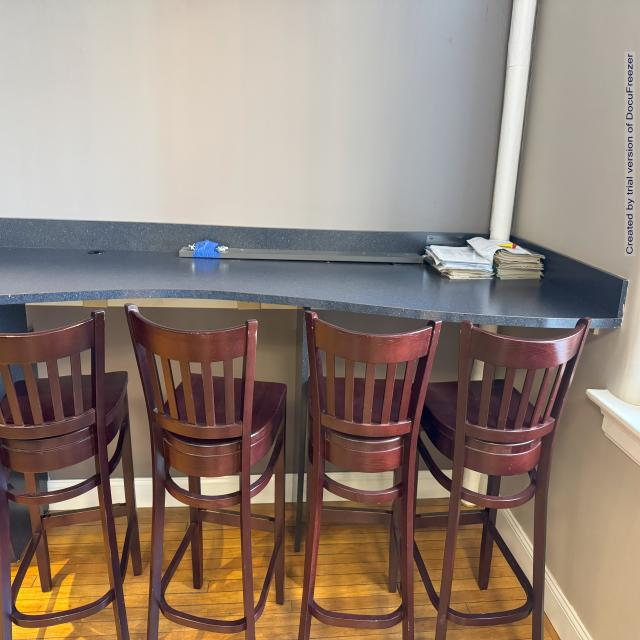chair: (131, 302, 290, 640), (4, 306, 145, 640), (301, 299, 424, 640), (449, 302, 572, 640)
